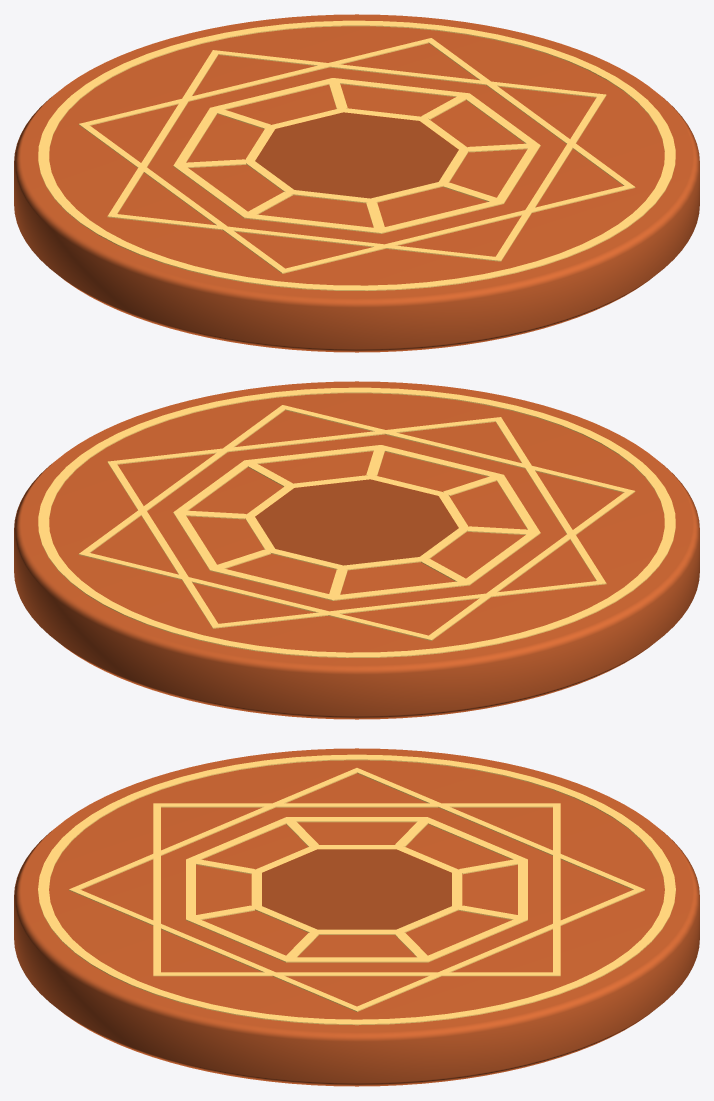
File: chip.glb
3 renders of one model, top to bottom at view 1: azimuth 30°, elevation 25°; view 2: azimuth 150°, elevation 25°; view 3: azimuth 270°, elevation 25°, orthographic.
Parts seen in each view (by area): view 1: ceramic_body, gold_lattice, center_plaque, plaque_frame; view 2: ceramic_body, gold_lattice, center_plaque, plaque_frame; view 3: ceramic_body, gold_lattice, center_plaque, plaque_frame.
Part boxes in pixels (box(x1,y1,x2,y2)): ceramic_body: box(14, 14, 699, 352); gold_lattice: box(38, 20, 675, 290); center_plaque: box(255, 112, 458, 198); plaque_frame: box(245, 108, 468, 203); ceramic_body: box(14, 381, 699, 719); gold_lattice: box(38, 387, 675, 657); center_plaque: box(255, 479, 458, 565); plaque_frame: box(245, 475, 468, 570); ceramic_body: box(14, 748, 699, 1086); gold_lattice: box(38, 754, 675, 1025); center_plaque: box(262, 849, 451, 929); plaque_frame: box(251, 845, 462, 934).
Bounding box in the file's own units: 0.039 × 0.00352 × 0.039.
